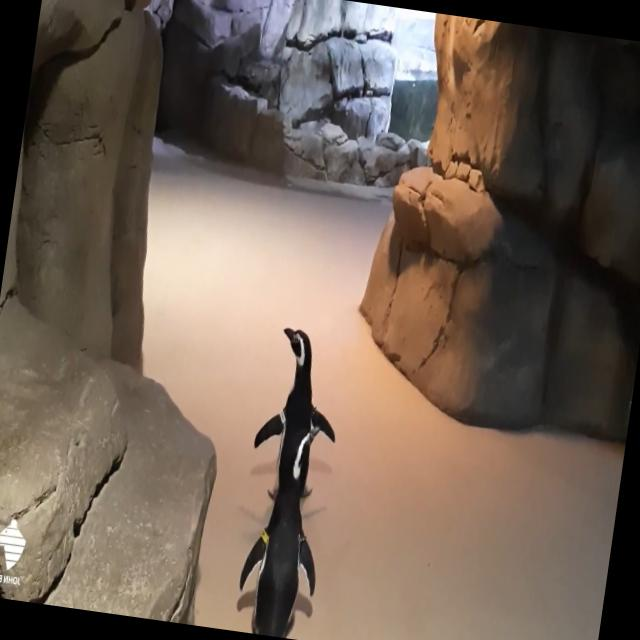penguin: (232, 416, 337, 640), (246, 322, 350, 510)
